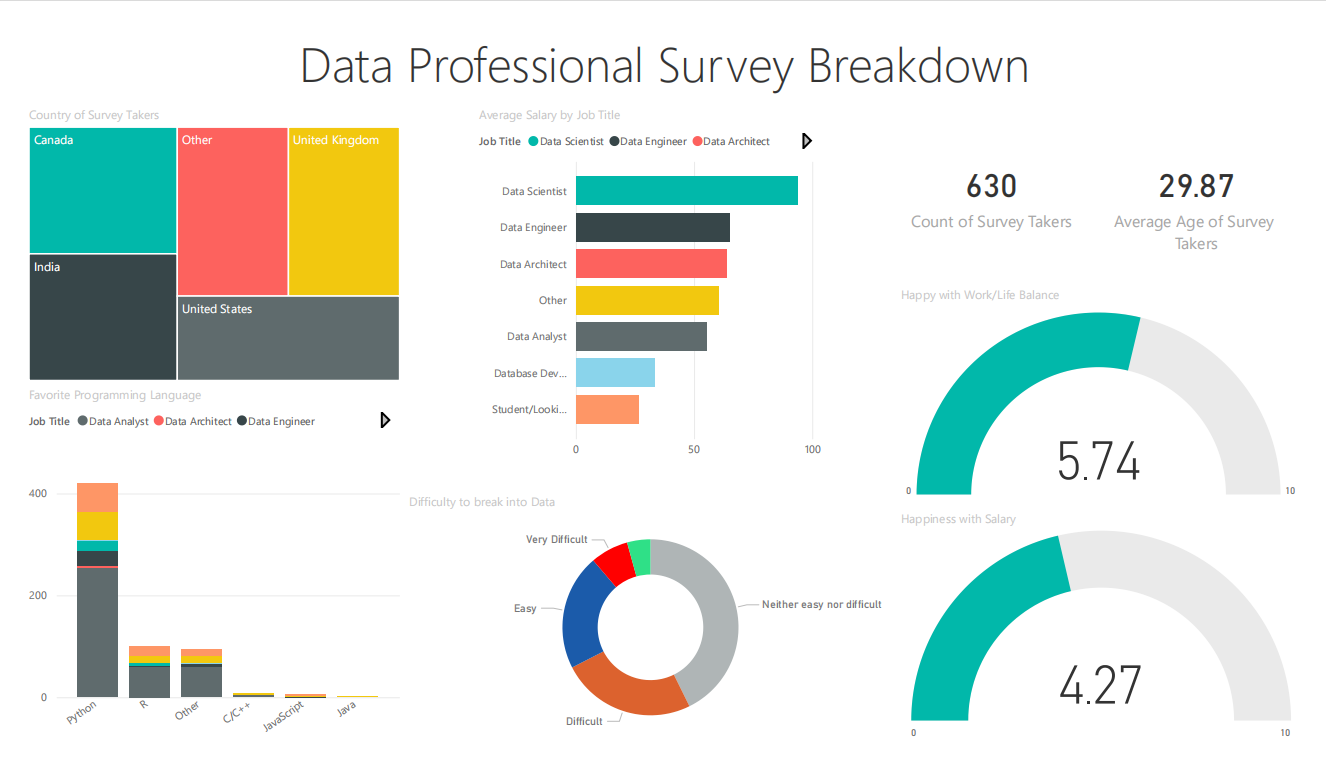

This screenshot's page, from the dashboard's own definition file:
{"tool":"powerbi","page":{"name":"Page 1","canvas":[1280,720],"ordinal":0},"visuals":[{"type":"textbox","box":[0,0,1280.3,81],"z":0},{"type":"card","fields":{"Values":["CountNonNull(Data Professional Survey.Unique ID)"]},"box":[871.4,81,190.7,175.6],"z":1000},{"type":"card","fields":{"Values":["Avg(Data Professional Survey.Q10 - Current Age)"]},"box":[1062.1,81,218.2,175.6],"z":2000},{"type":"barChart","title":"Average Salary by Job Title","fields":{"Category":["Data Professional Survey.Q1 - Which Title Best Fits your Current Role?.1"],"Y":["Avg(Data Professional Survey.Average Salary)"],"Series":["Data Professional Survey.Q1 - Which Title Best Fits your Current Role?.1"]},"box":[450.1,81,351.3,359.5],"z":3000},{"type":"columnChart","title":"Favorite Programming Language","fields":{"Category":["Data Professional Survey.Q5 - Favorite Programming Language.1"],"Y":["CountNonNull(Data Professional Survey.Unique ID)"],"Series":["Data Professional Survey.Q1 - Which Title Best Fits your Current Role?.1"]},"box":[0,359.5,380.1,360.9],"z":4000},{"type":"treemap","title":"Country of Survey Takers","fields":{"Group":["Data Professional Survey.Q11 - Which Country do you live in?.1"],"Values":["Count(Data Professional Survey.Q11 - Which Country do you live in?.1)"]},"box":[0,81,380.1,278.6],"z":5000},{"type":"gauge","title":"Happy with Work/Life Balance","fields":{"Y":["Avg(Data Professional Survey.Q6 - How Happy are you in your Current Position with the following? (Work/Life Balance))"],"MinValue":["Min(Data Professional Survey.Q6 - How Happy are you in your Current Position with the following? (Work/Life Balance))"],"MaxValue":["Max(Data Professional Survey.Q6 - How Happy are you in your Current Position with the following? (Work/Life Balance))"]},"box":[871.4,260.7,408.9,223.7],"z":6000},{"type":"gauge","title":"Happiness with Salary","fields":{"Y":["Avg(Data Professional Survey.Q6 - How Happy are you in your Current Position with the following? (Salary))"],"MinValue":["Min(Data Professional Survey.Q6 - How Happy are you in your Current Position with the following? (Salary))"],"MaxValue":["Max(Data Professional Survey.Q6 - How Happy are you in your Current Position with the following? (Salary))"]},"box":[871.4,484.4,408.9,236],"z":7000},{"type":"donutChart","title":"Difficulty to break into Data","fields":{"Category":["Data Professional Survey.Q7 - How difficult was it for you to break into Data?"],"Y":["CountNonNull(Data Professional Survey.Q7 - How difficult was it for you to break into Data?)"]},"box":[380.1,466.6,491.3,253.9],"z":8000}]}

Visuals, with their boxes in screenshot pixels (x1, y1, x2, y2), scaled from the page's 1280x720 canvas onto the 1326x766 screenshot:
textbox: detection(0, 0, 1325, 86)
card - CountNonNull(Data Professional Survey.Unique ID): detection(903, 86, 1100, 273)
card - Avg(Data Professional Survey.Q10 - Current Age): detection(1100, 86, 1325, 273)
"Average Salary by Job Title" barChart: detection(466, 86, 830, 469)
"Favorite Programming Language" columnChart: detection(0, 382, 394, 765)
"Country of Survey Takers" treemap: detection(0, 86, 394, 383)
"Happy with Work/Life Balance" gauge: detection(903, 277, 1325, 515)
"Happiness with Salary" gauge: detection(903, 515, 1325, 765)
"Difficulty to break into Data" donutChart: detection(394, 496, 903, 765)
